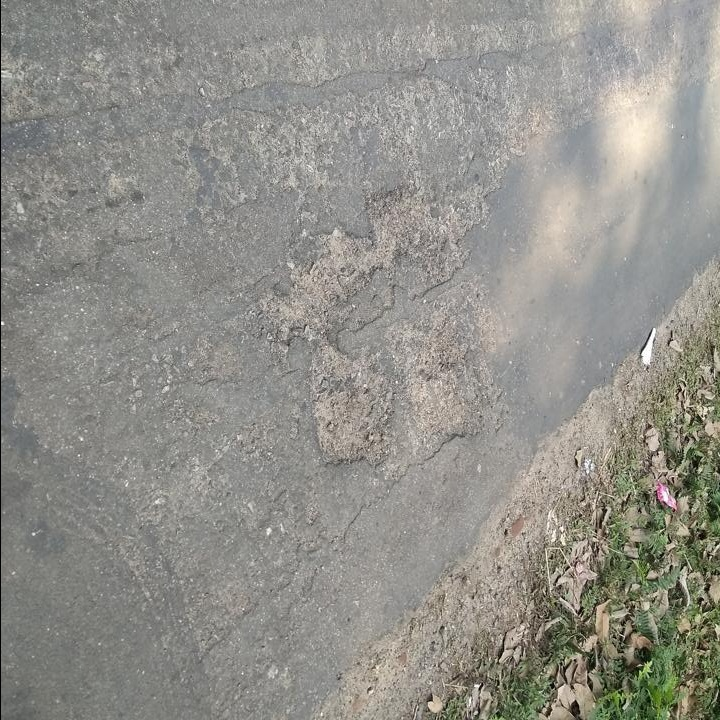pothole: (254, 173, 497, 488)
